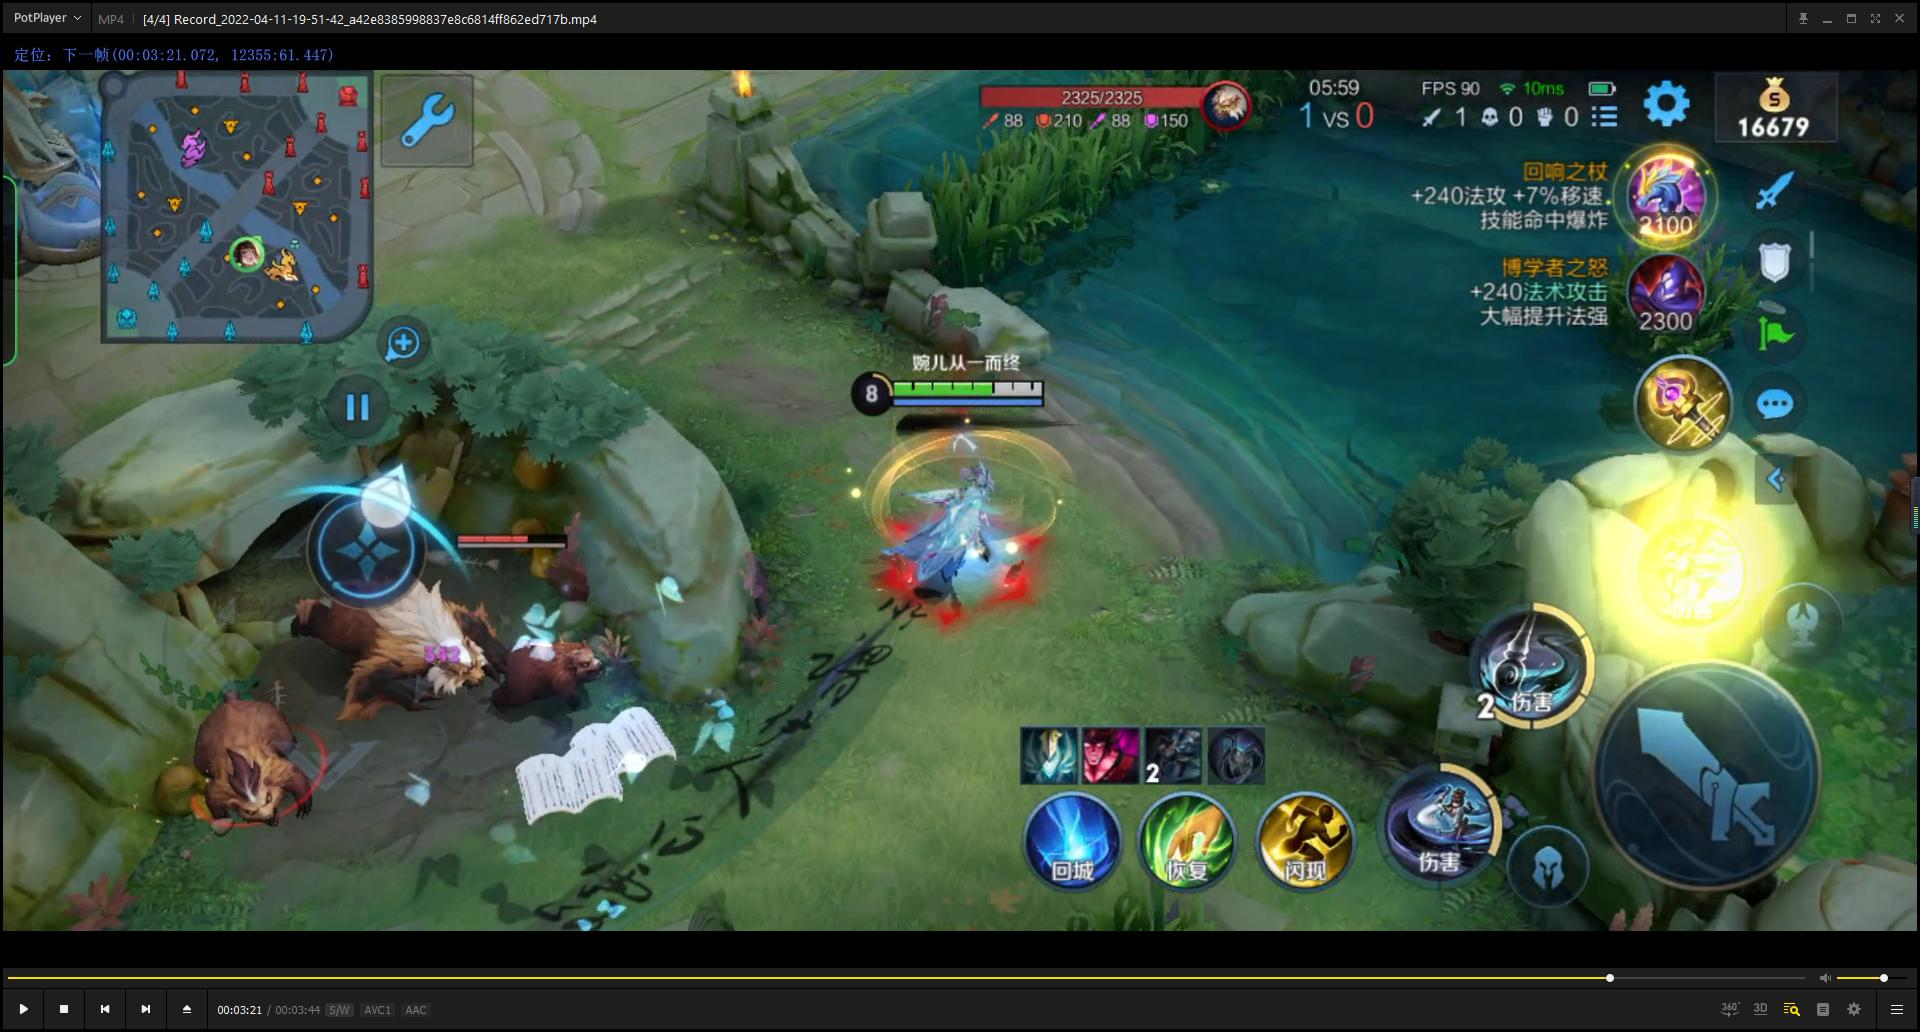Hero: (855, 432, 1045, 660)
Pig: (268, 505, 506, 749), (160, 677, 355, 867), (454, 522, 618, 735)
Tower: (14, 55, 135, 311)
